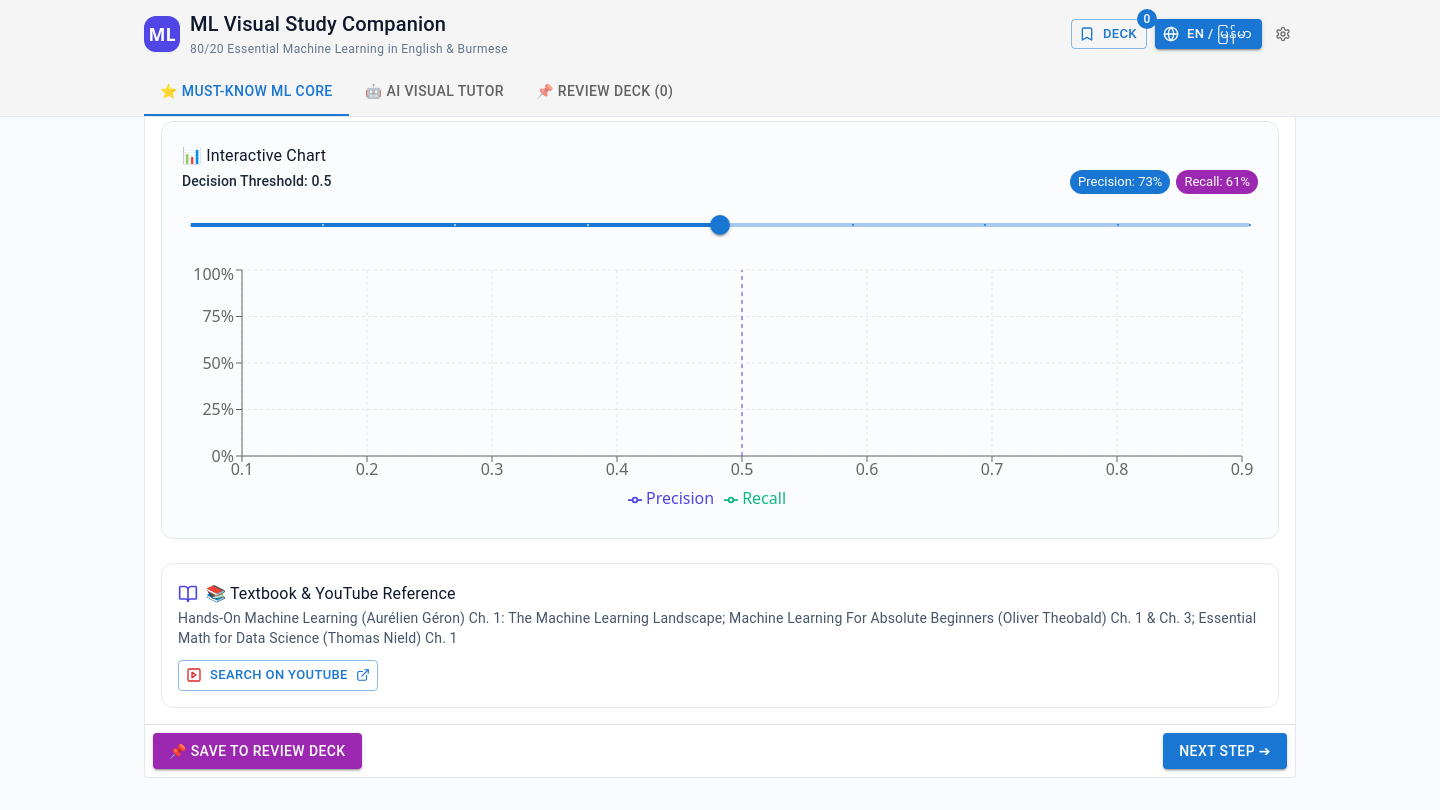
Scenario: CoreFlowchart and Phase 2 Study UI › saves a lesson to the Review Deck and updates the badge count
(page scrolled)
Click the button "📌 Save to Review Deck". click: {"x": 257, "y": 751}
box: [153,733,362,769]
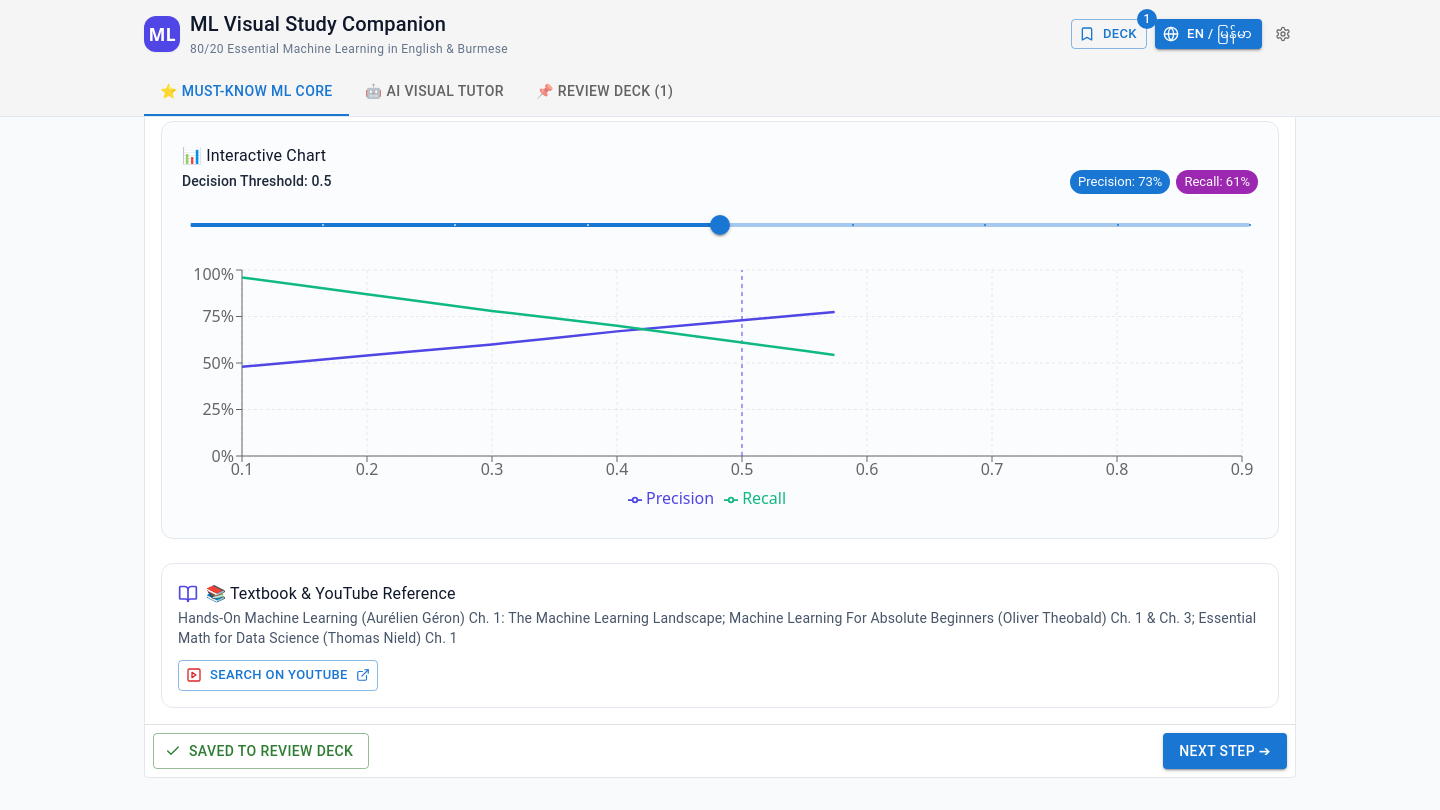
Check: the button "Saved to Review Deck" is shown, box [153,733,369,769]
Check: the element named "Saved flashcards: 1" is shown, box [1071,19,1147,49]
